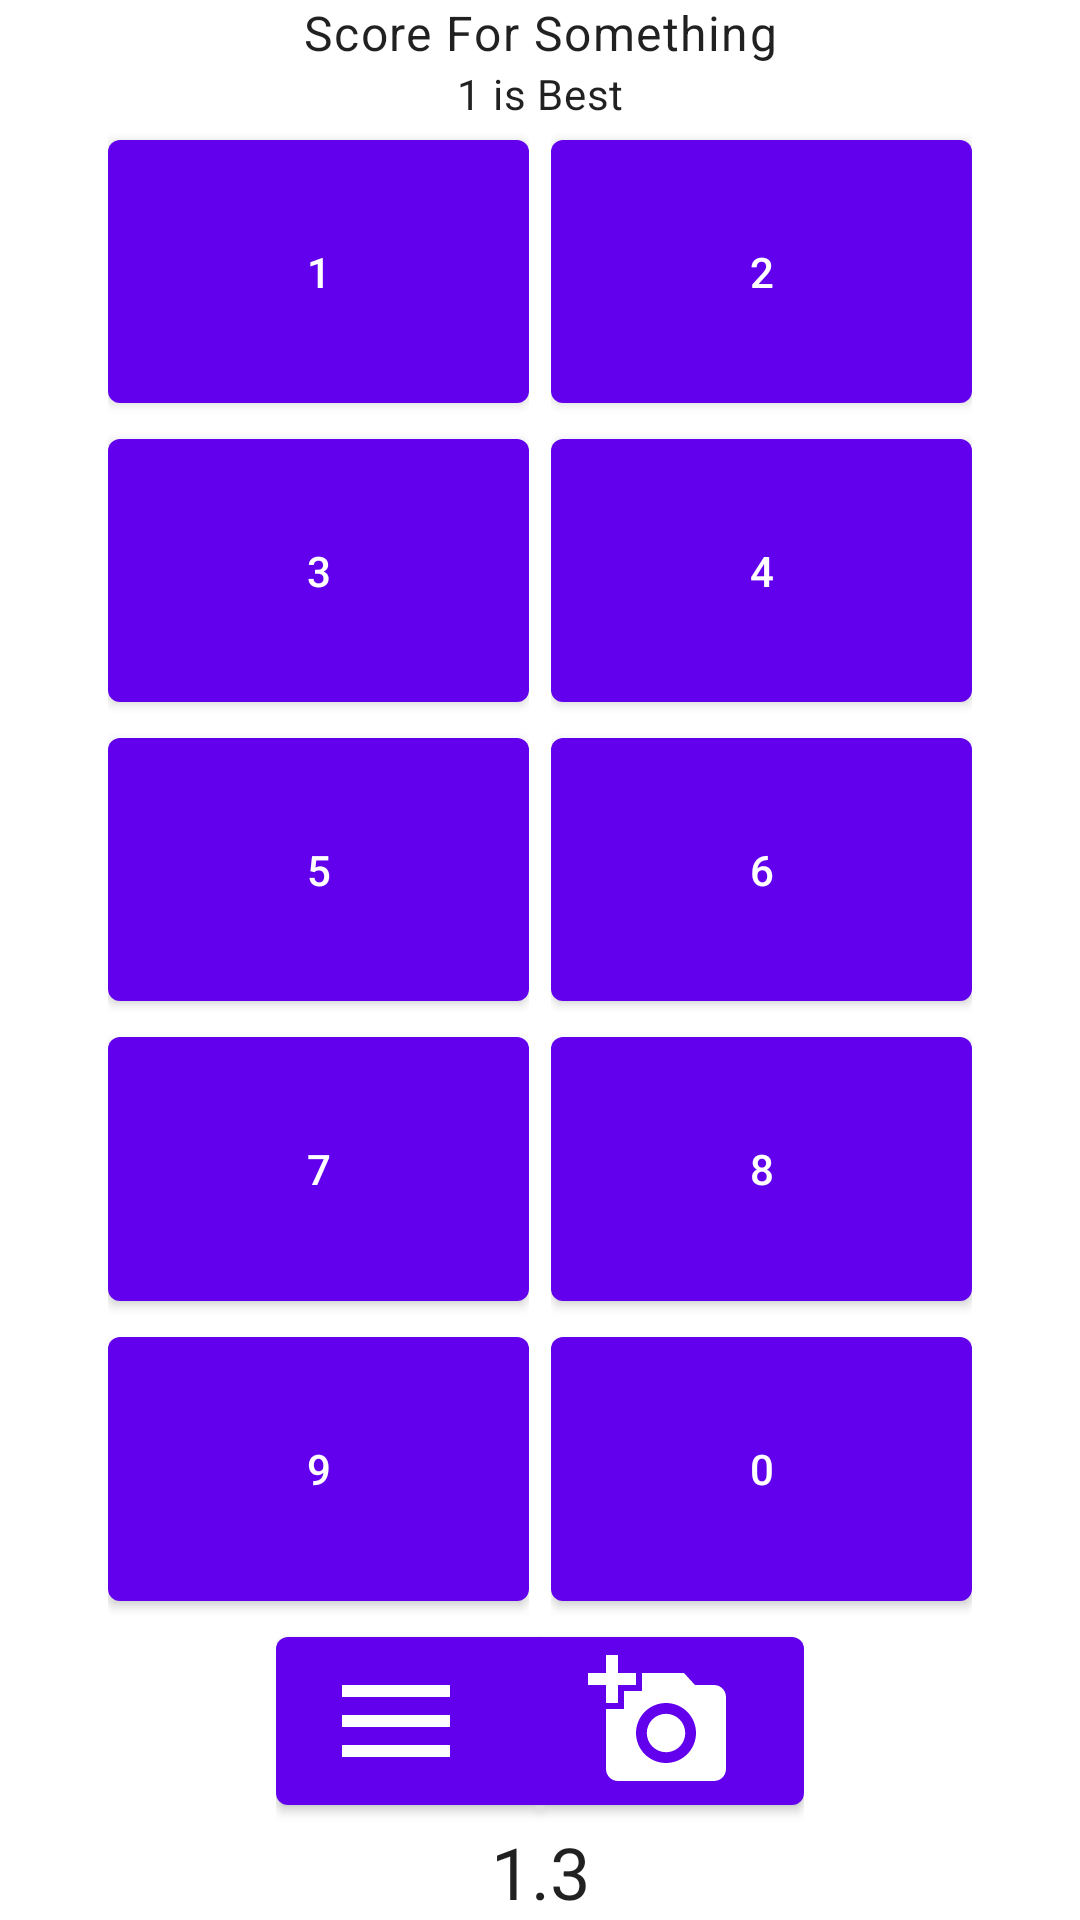

Where to tap for icons on this 1080w x 1920h app screen, as [x,y]:
add photo: [672,1724]
menu: [408,1724]
